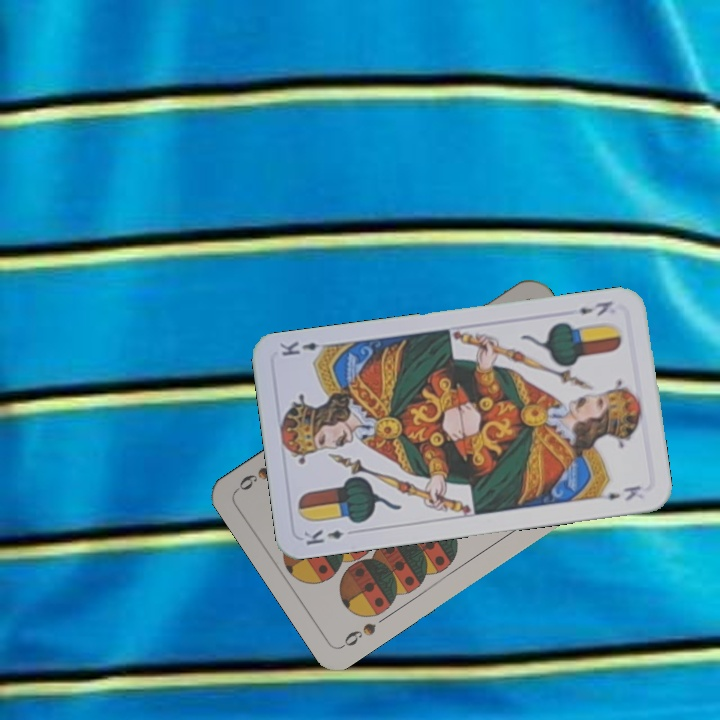EK: (300, 526, 346, 548), (574, 297, 615, 319)
S9: (337, 618, 379, 651)
